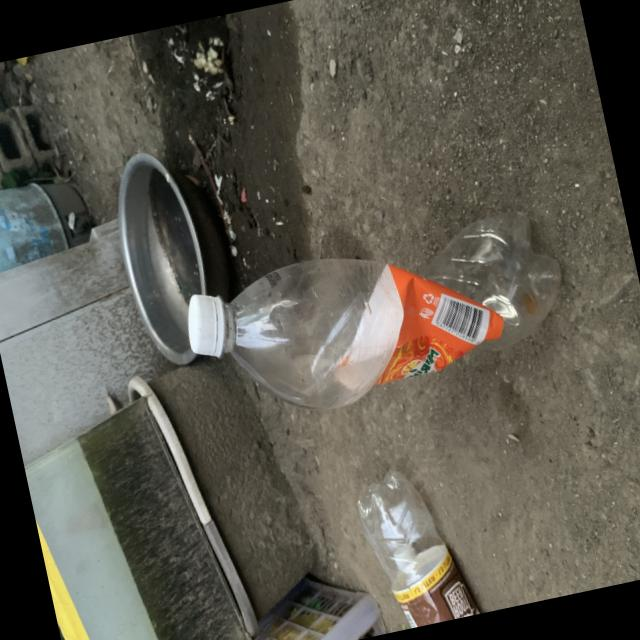Bottle: (188, 212, 561, 407)
